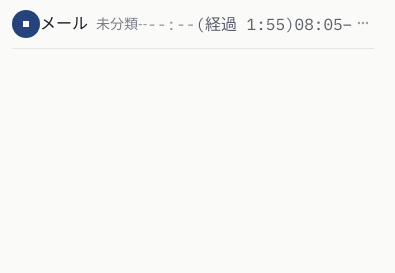
Test case: TaskRow（画面定義書01 §3.3: 1タスク=1行のセルとその入口） › 行メニュー（O-7 / O-8 / O-12） › 実行中タスクでは中断ができ、日付移動はできない
The width and height of the screenshot is (395, 273).
Click the button named "行メニュー" at (363, 22), box [352,12,374,34]
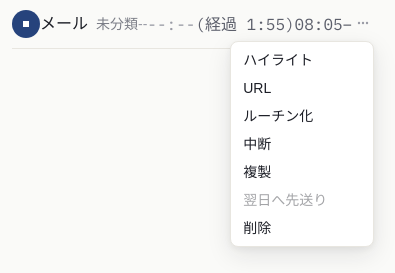
Result: the button "中断" is enabled at [231,130,373,158]
Result: the button "翌日へ先送り" is disabled at [231,186,373,214]
